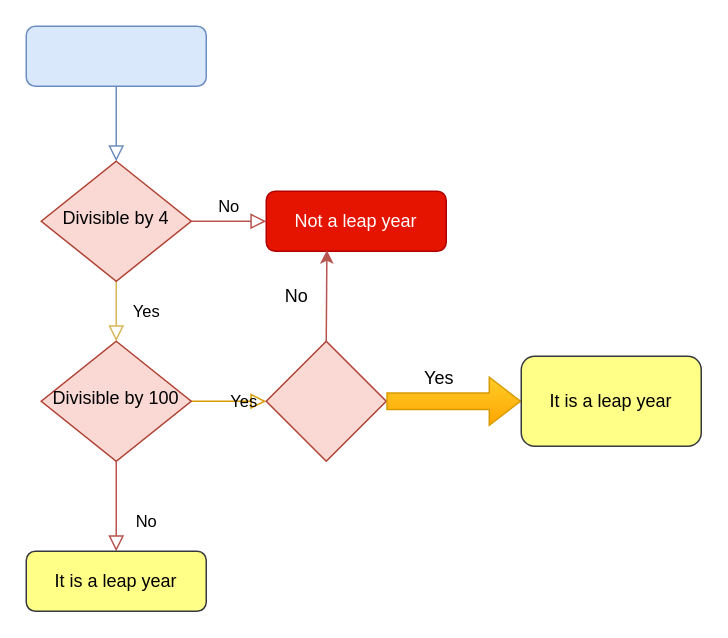
Image size: 728x638. Some labels were removed from this diagram. The shapes that lost their labels are listed below. From the top down, each one's box as (x1, y1, x2, y2) in pixels, then its label:
(25, 25, 206, 86): Take year as input
(265, 340, 386, 461): Divisible by 400
